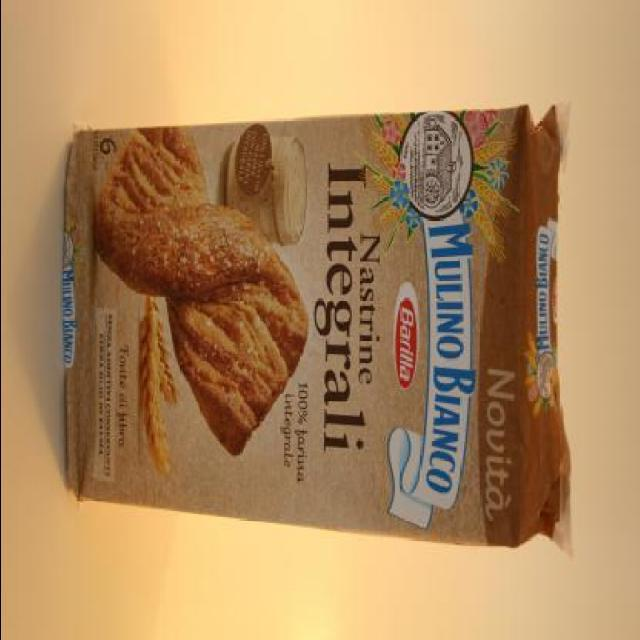Merendine: (57, 91, 551, 555)
